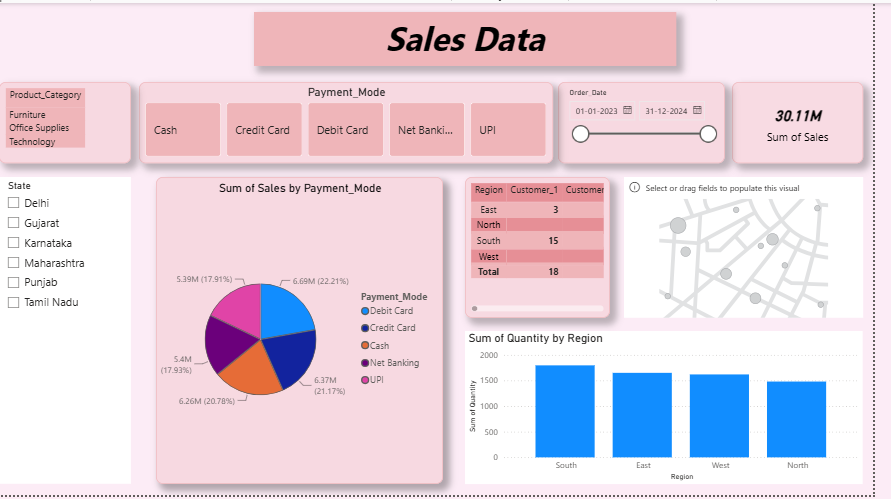

What the dashboard file says about the page in this screenshot:
{"tool":"powerbi","page":{"name":"Page 1","canvas":[1280,720],"ordinal":0},"visuals":[{"type":"card","fields":{"Values":["Sum(Sales_Data.Sales)"]},"box":[1072.7,115.6,191.7,118.5],"z":0},{"type":"pieChart","fields":{"Category":["Sales_Data.Payment_Mode"],"Y":["Sum(Sales_Data.Sales)"]},"box":[229.8,254.6,420,449.3],"z":1000},{"type":"slicer","fields":{"Values":["Sales_Data.Order_Date"]},"box":[818,115.6,244.4,118.5],"z":2000},{"type":"advancedSlicerVisual","fields":{"Values":["Sales_Data.Payment_Mode"]},"box":[204.9,115.6,605.9,118.5],"z":3000},{"type":"pivotTable","fields":{"Rows":["Sales_Data.Region"],"Values":["Sum(Sales_Data.Quantity)"],"Columns":["Sales_Data.Customer_Name"]},"box":[682,254.6,212.2,206.3],"z":4000},{"type":"textbox","box":[373.2,13.2,617.6,79],"z":5000},{"type":"map","box":[914.6,254.6,349.8,206.3],"z":6000},{"type":"tableEx","fields":{"Values":["Sales_Data.Product_Category"]},"box":[0,115.6,193.2,118.5],"z":7000},{"type":"clusteredColumnChart","fields":{"Category":["Sales_Data.Region"],"Y":["Sum(Sales_Data.Quantity)"]},"box":[682,480,582.4,223.9],"z":8000},{"type":"slicer","fields":{"Values":["Sales_Data.State"]},"box":[0,255,193,449],"z":9000}]}

Visuals, with their boxes in screenshot pixels (x1, y1, x2, y2), scaled from the page's 1280x720 canvas onto the 891x499 screenshot:
card - Sum(Sales_Data.Sales): {"x1": 747, "y1": 80, "x2": 880, "y2": 162}
pieChart - Sales_Data.Payment_Mode x Sum(Sales_Data.Sales): {"x1": 160, "y1": 176, "x2": 452, "y2": 488}
slicer - Sales_Data.Order_Date: {"x1": 569, "y1": 80, "x2": 740, "y2": 162}
advancedSlicerVisual - Sales_Data.Payment_Mode: {"x1": 143, "y1": 80, "x2": 564, "y2": 162}
pivotTable - Sales_Data.Region x Sum(Sales_Data.Quantity): {"x1": 475, "y1": 176, "x2": 622, "y2": 319}
textbox: {"x1": 260, "y1": 9, "x2": 690, "y2": 64}
map: {"x1": 637, "y1": 176, "x2": 880, "y2": 319}
tableEx - Sales_Data.Product_Category: {"x1": 0, "y1": 80, "x2": 134, "y2": 162}
clusteredColumnChart - Sales_Data.Region x Sum(Sales_Data.Quantity): {"x1": 475, "y1": 333, "x2": 880, "y2": 488}
slicer - Sales_Data.State: {"x1": 0, "y1": 177, "x2": 134, "y2": 488}
